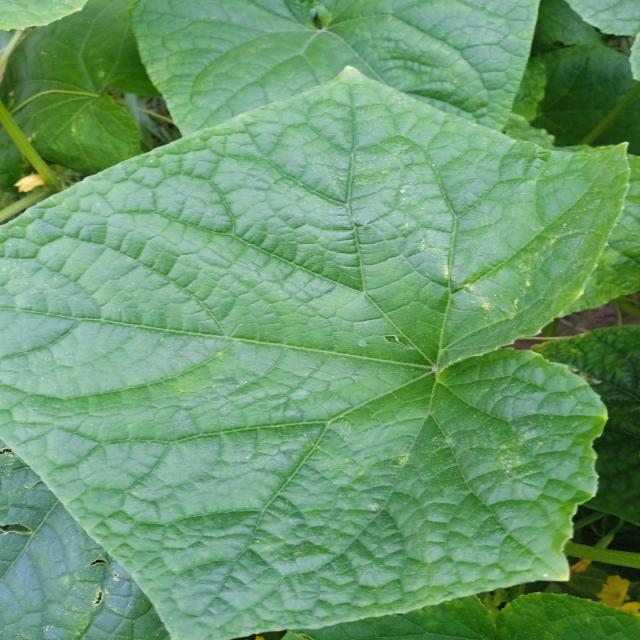cucumber_healthy: (1, 63, 632, 640)
